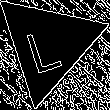L_N: (26, 16, 70, 74)
